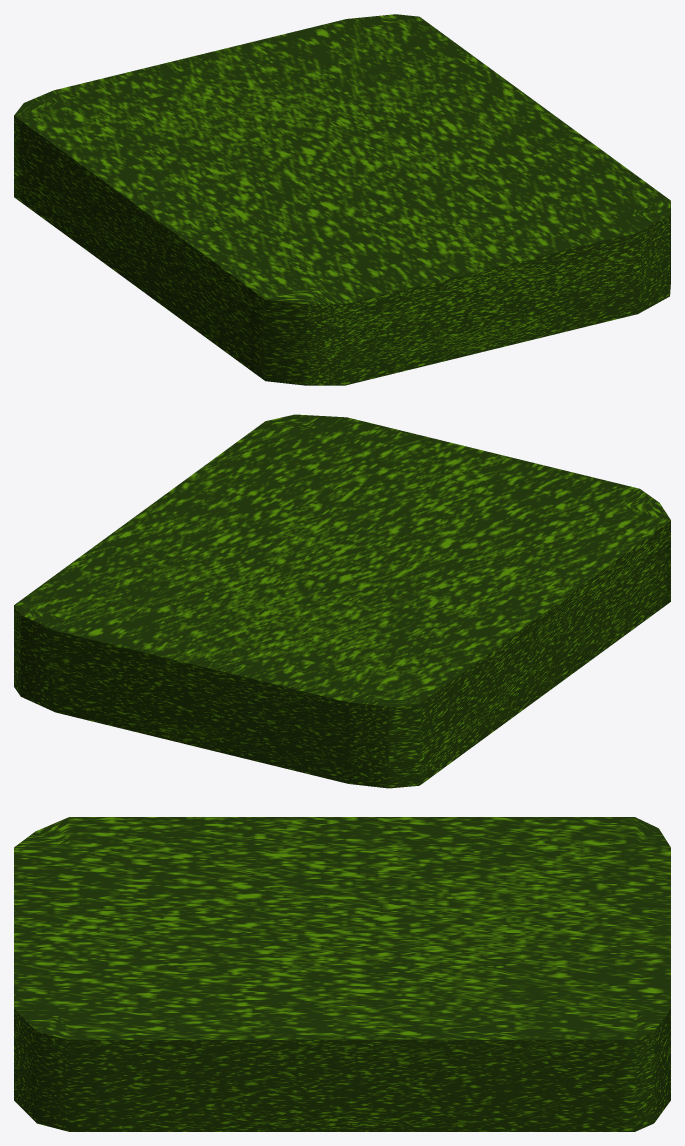
Rendered from platform6.fbx.
3 renders of one model, top to bottom at view 1: azimuth 30°, elevation 25°; view 2: azimuth 150°, elevation 25°; view 3: azimuth 270°, elevation 25°, orthographic. The views are drawn at different scales.
Parts seen in each view (by area): view 1: pCube7; view 2: pCube7; view 3: pCube7.
Boxes of the visible parts, x1,y1,x2,y2 form: pCube7: (14,14,670,385); pCube7: (14,414,670,788); pCube7: (14,817,670,1131).
Bounding box in the file's own units: 1083 × 208 × 1349.
Materials: 1 (1 with a texture image).
